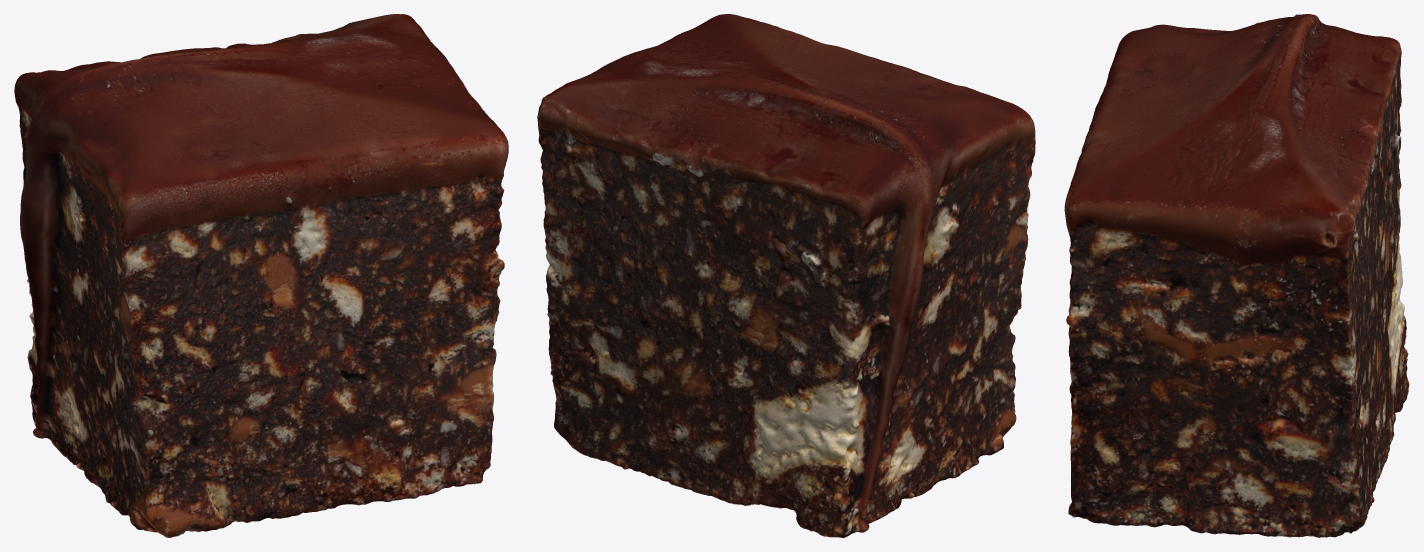
File: chocolate_cake.glb
The picture shows the model from 3 angles, left to right: view 1: azimuth 30°, elevation 25°; view 2: azimuth 150°, elevation 25°; view 3: azimuth 270°, elevation 25°; orthographic projection. The views are drawn at different scales.
Parts seen in each view (by area): view 1: Object_2; view 2: Object_2; view 3: Object_2.
Part boxes in pixels (x1=…): Object_2: x1=14, y1=14, x2=508, y2=537; Object_2: x1=537, y1=14, x2=1035, y2=537; Object_2: x1=1064, y1=14, x2=1409, y2=537.
Size of the model in its own units: 0.2406 by 0.2264 by 0.1852.
1 material, 1 textured.
